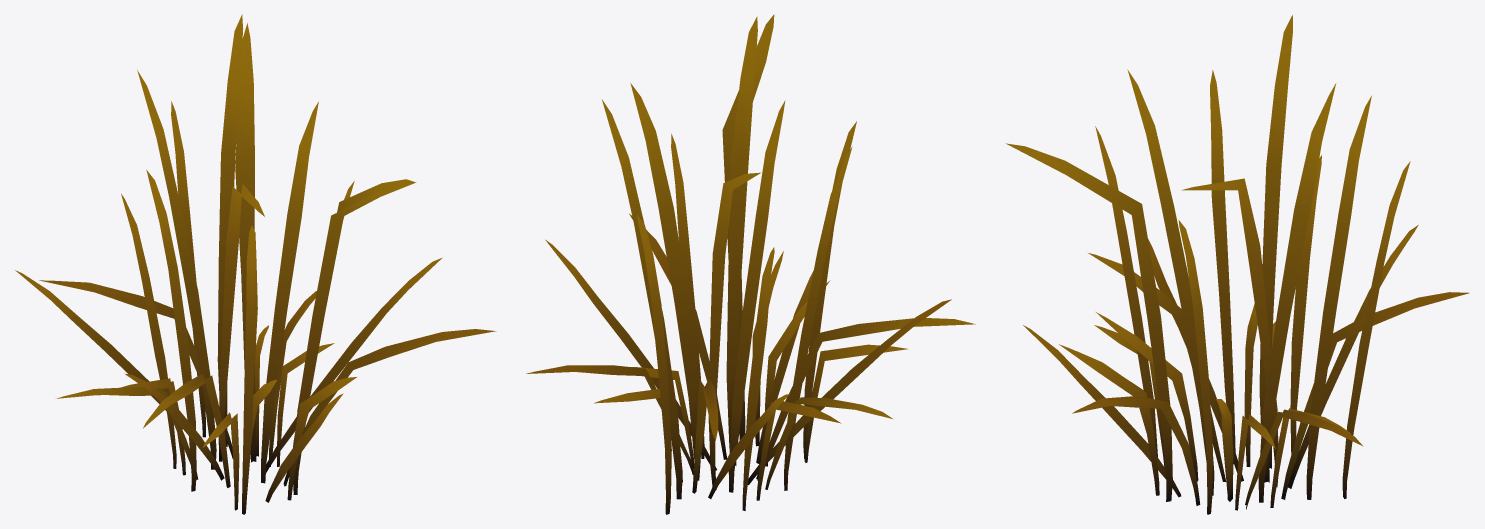
The model's file is vista-grass.glb.
The picture shows the model from 3 angles, left to right: view 1: azimuth 30°, elevation 25°; view 2: azimuth 150°, elevation 25°; view 3: azimuth 270°, elevation 25°; orthographic projection. The views are drawn at different scales.
Parts seen in each view (by area): view 1: Grass_Wispy_Tall; view 2: Grass_Wispy_Tall; view 3: Grass_Wispy_Tall.
Boxes of the visible parts, box(x1,y1,x2,y2) form: Grass_Wispy_Tall: box(15, 14, 496, 514); Grass_Wispy_Tall: box(526, 14, 975, 514); Grass_Wispy_Tall: box(1005, 15, 1469, 514).
Bounding box in the file's own units: 1.54 × 1.67 × 1.59.
1 material, 1 textured.
